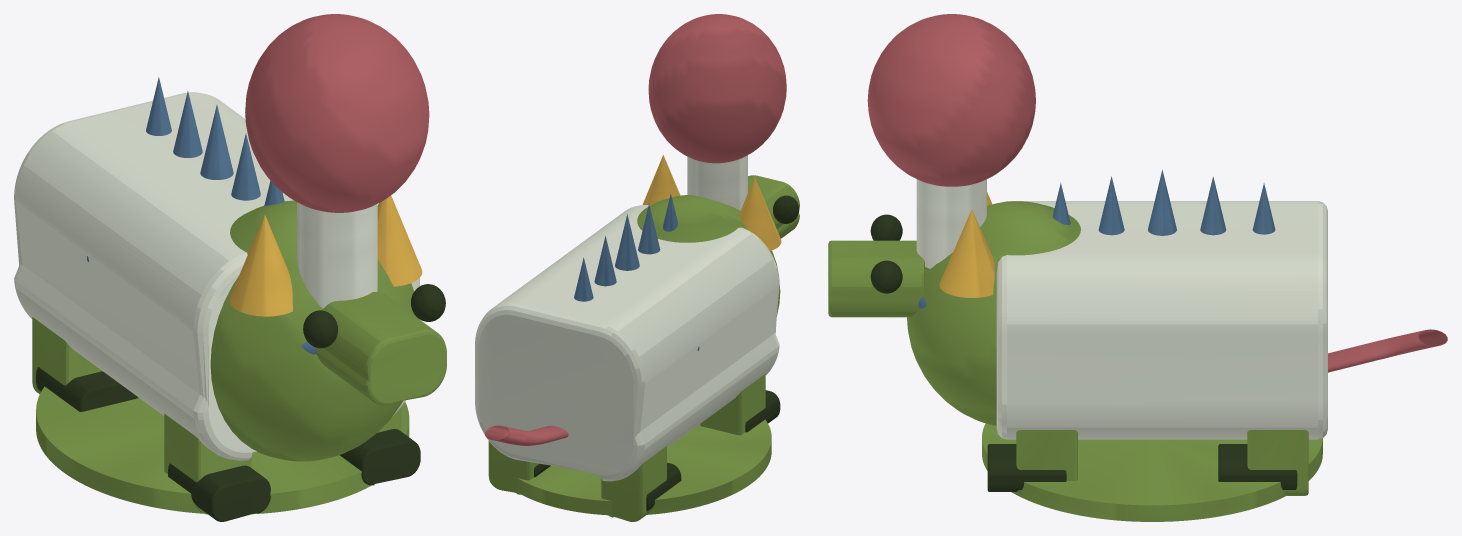
File: 0171_恐龙图鉴_蛇颈龙.glb
3 renders of one model, left to right at view 1: azimuth 30°, elevation 25°; view 2: azimuth 150°, elevation 25°; view 3: azimuth 270°, elevation 25°, orthographic. The views are drawn at different scales.
Parts seen in each view (by area): view 1: card_0171; view 2: card_0171; view 3: card_0171.
Part boxes in pixels (<box>): card_0171: <box>14,14,446,521</box>; card_0171: <box>475,14,799,521</box>; card_0171: <box>828,14,1447,521</box>.
Size of the model in its own units: 0.6676 by 1 by 1.29.
